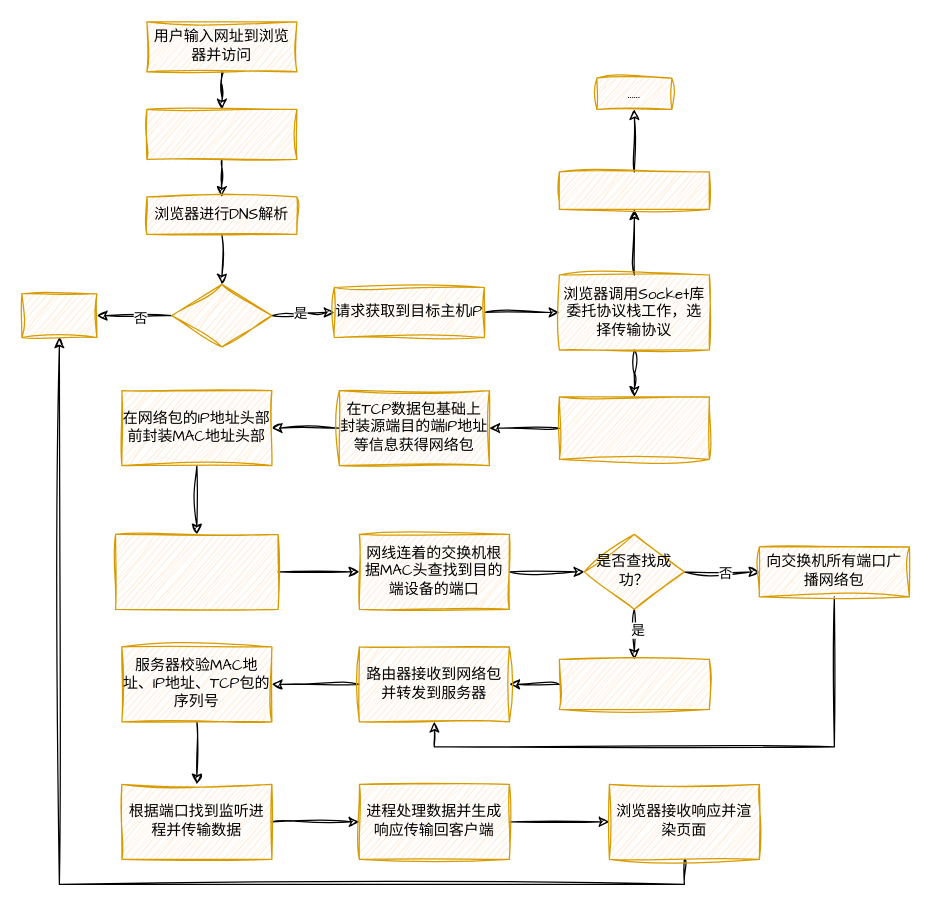
This 931x916 diagram has some shape labels left out. The shapes that lost their labels are listed below. From the top down, each one's centre as x and y in pixels, then its label:
the point at 221,133: 浏览器解析URL，生成HTTP请求报文
the point at 633,190: 使用UDP协议
the point at 59,315: 结束
the point at 221,315: 解析成功？
the point at 633,427: 使用TCP协议，通过三次握手建立连接，获得TCP数据包
the point at 196,571: 网卡将存储在内存中的二进制网络包转为电信号，通过网线传输
the point at 633,683: 向目的设备的端口传输网络包
